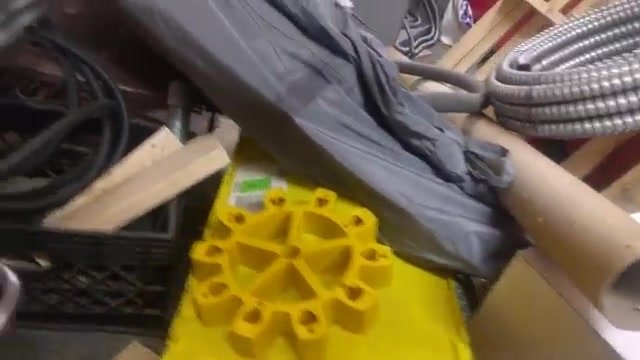gear: (169, 171, 399, 360)
